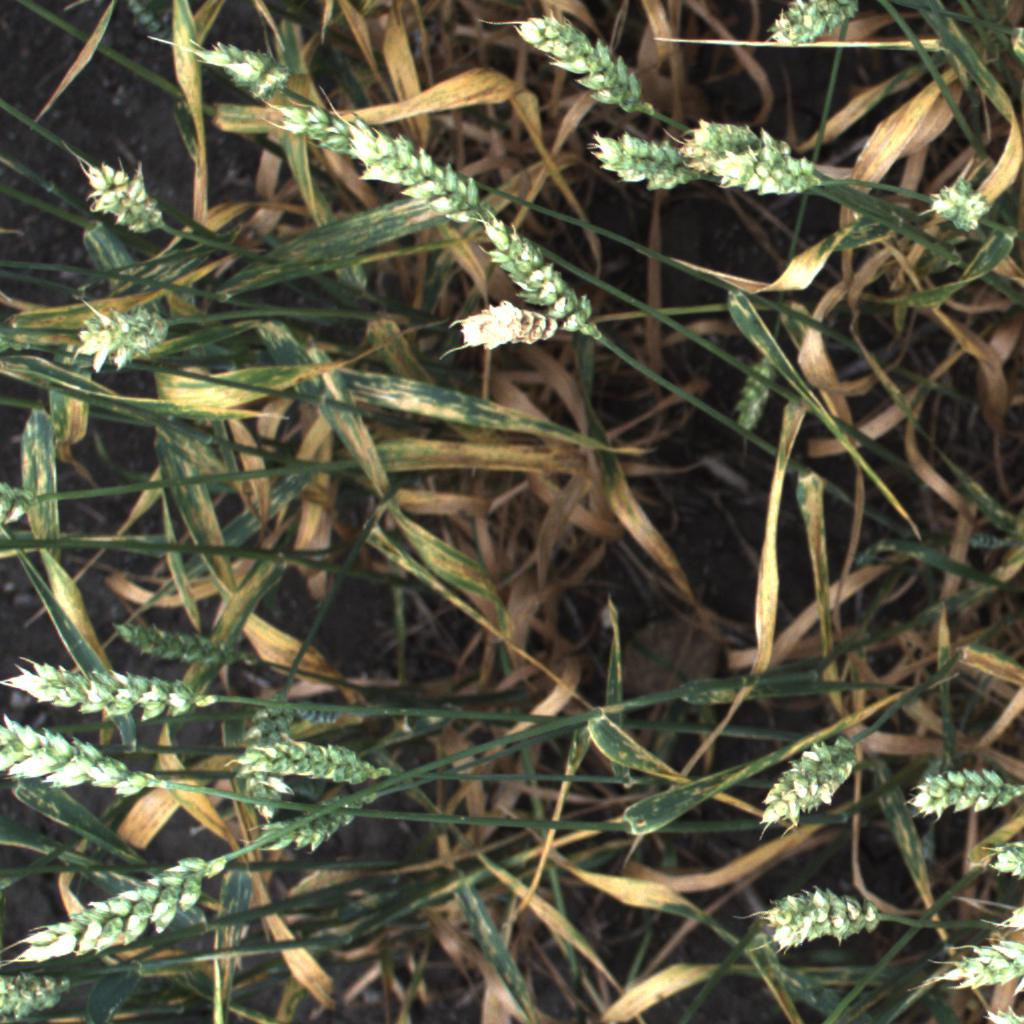0-0: (13, 847, 235, 970), (340, 111, 514, 232), (0, 645, 239, 729), (0, 713, 179, 820), (508, 0, 661, 122), (476, 212, 611, 349), (749, 870, 889, 969), (762, 710, 871, 827), (55, 286, 179, 379), (256, 86, 398, 167), (208, 735, 413, 791), (167, 20, 298, 105), (70, 154, 183, 251), (101, 609, 265, 675), (252, 785, 389, 863), (576, 121, 702, 204), (684, 142, 837, 198), (676, 107, 812, 169), (902, 758, 1024, 826), (744, 0, 891, 55), (250, 683, 305, 818), (450, 296, 571, 357), (920, 936, 1024, 1000), (727, 340, 785, 440), (915, 173, 1001, 238), (962, 832, 1024, 892), (0, 971, 79, 1016), (0, 470, 50, 540), (978, 898, 1024, 937), (974, 1004, 1024, 1023), (768, 0, 908, 2)
